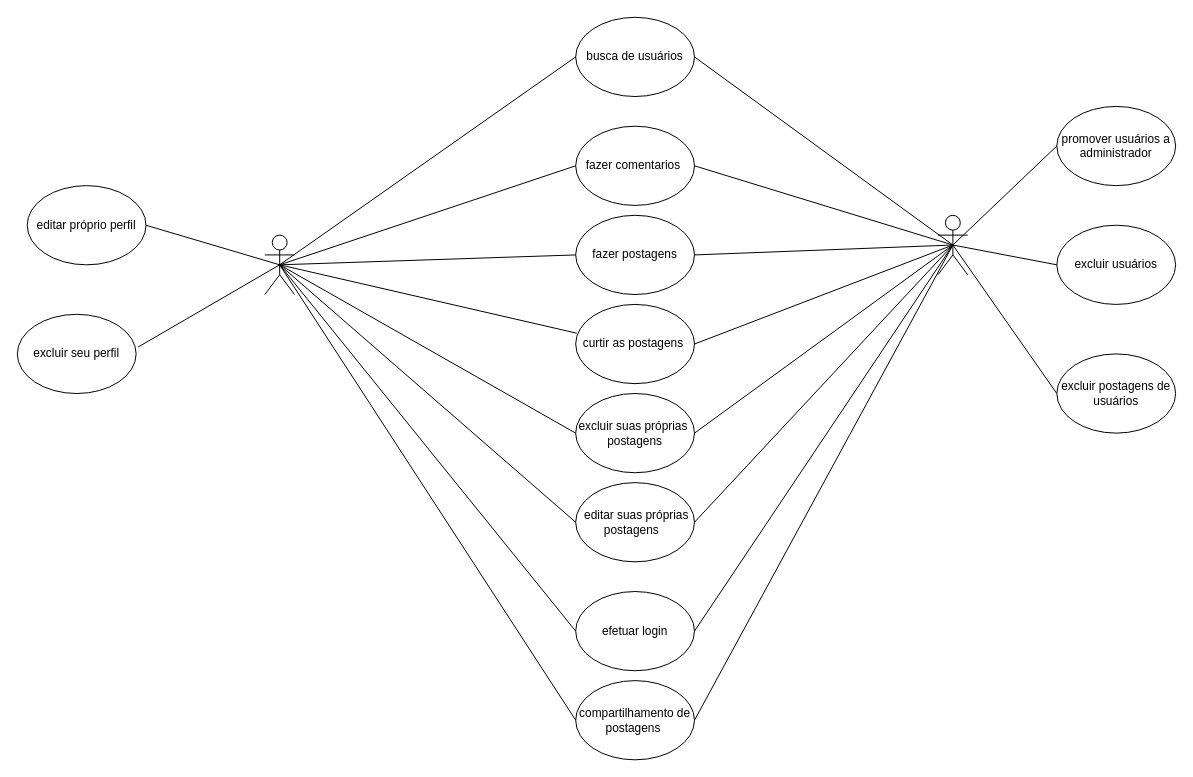
The diagram is 1193 pixels wide and 777 high, and some of its shapes have lost their labels. Each missing label, with the centre of its shape:
"administrador" goes at pixel 952 244.
"usuário" goes at pixel 279 264.
